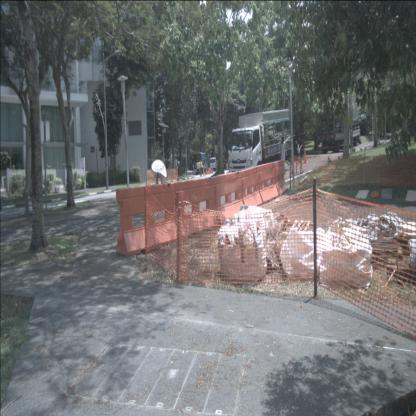barrier: (116, 182, 177, 257), (176, 176, 216, 238), (214, 171, 245, 226), (241, 165, 263, 208), (258, 162, 279, 205), (274, 160, 288, 196)
cone: (303, 149, 308, 165), (199, 168, 202, 178), (205, 167, 208, 174), (203, 167, 205, 176)
